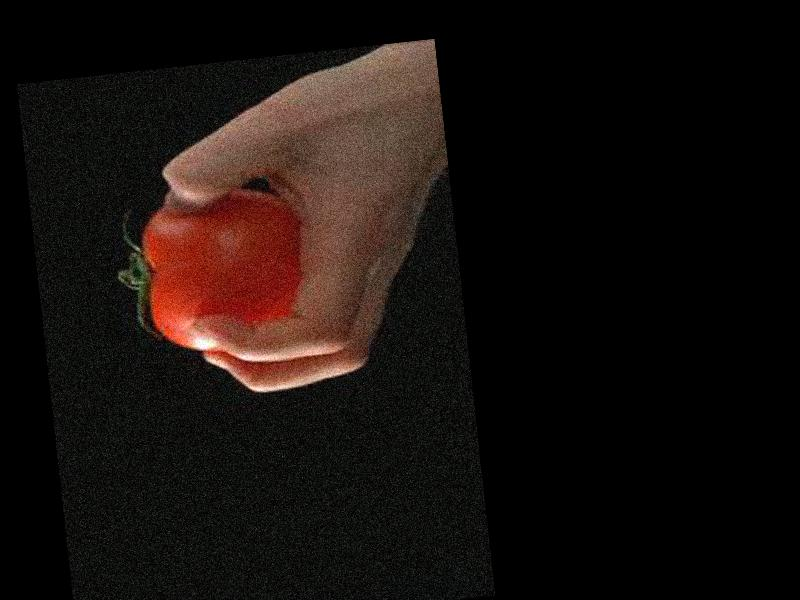Tomato: (113, 184, 306, 358)
